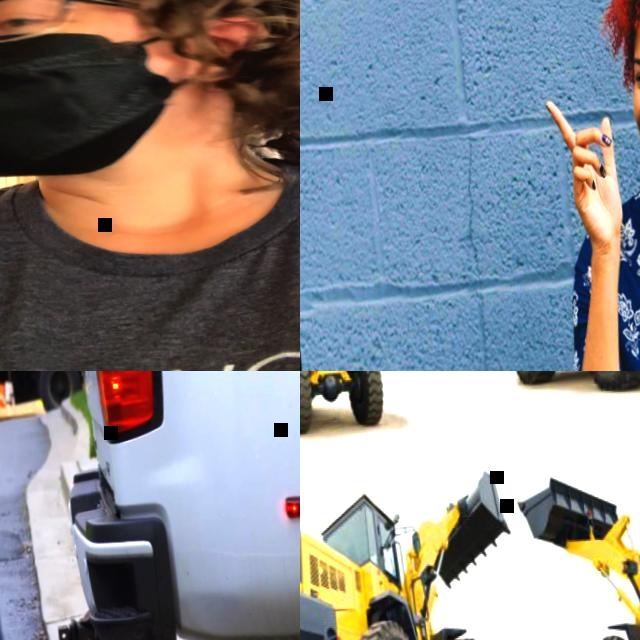Mask: (0, 10, 213, 186)
NO-Safety Vest: (0, 147, 300, 371)
Person: (0, 0, 300, 371), (526, 0, 640, 371)
Safety Cone: (0, 382, 4, 409)
machinery: (300, 458, 526, 640), (511, 448, 640, 640)
vehicle: (0, 371, 300, 640)
